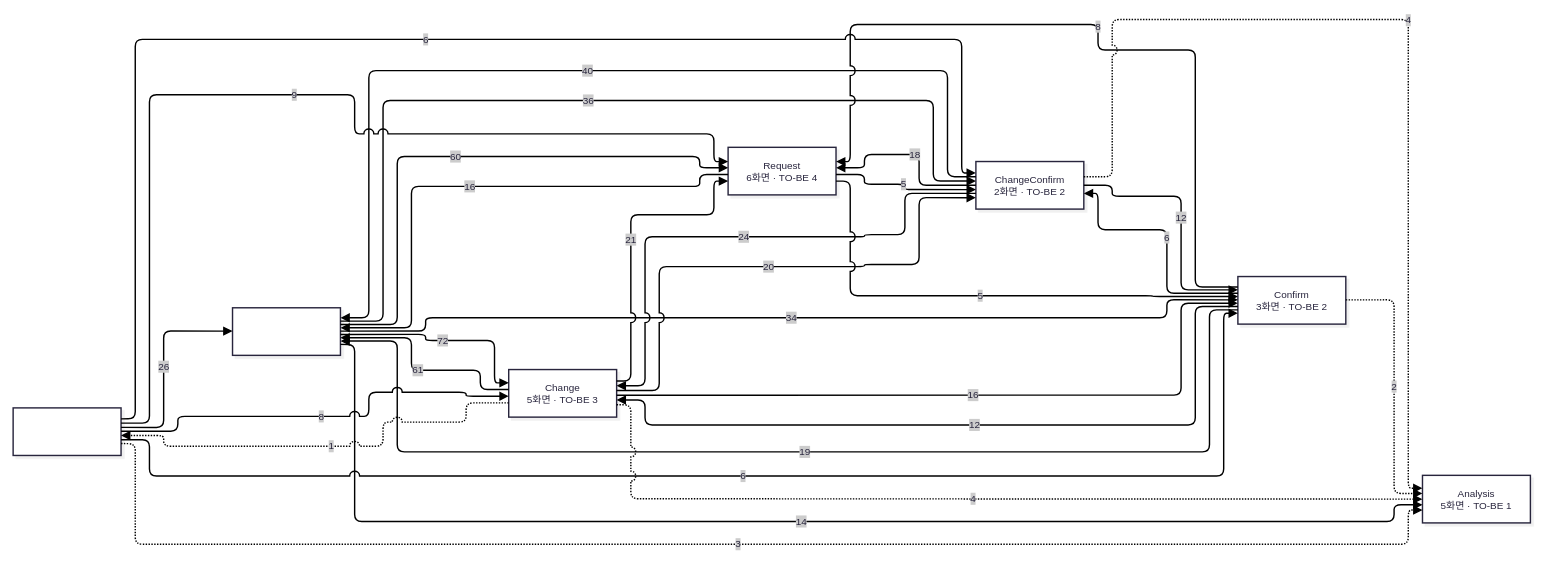
Some shapes in this 1546 by 564 pixel diagram are drawn without their labels. The shapes that lost their labels are listed below. From the top down, each one's centre as x and y in pixels, then its label:
At point 287,333: "Plan 13화면 · TO-BE 3".
At point 68,433: "Master 9화면 · TO-BE 8".
